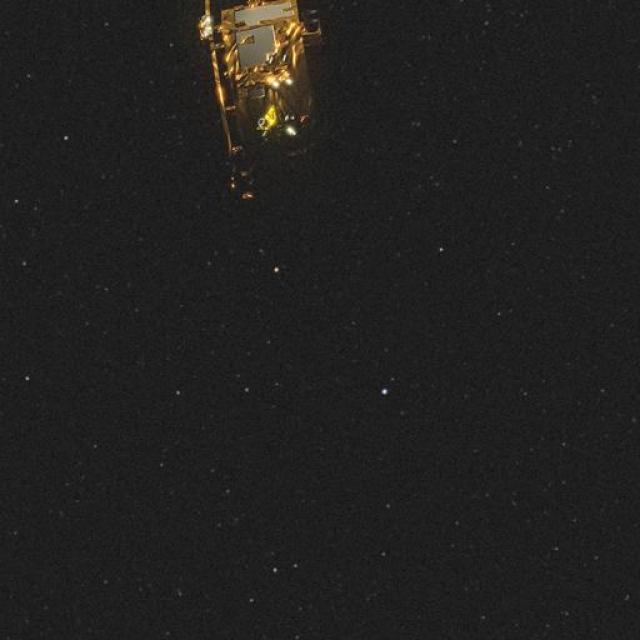lisa_pathfinder: (193, 0, 391, 221)
